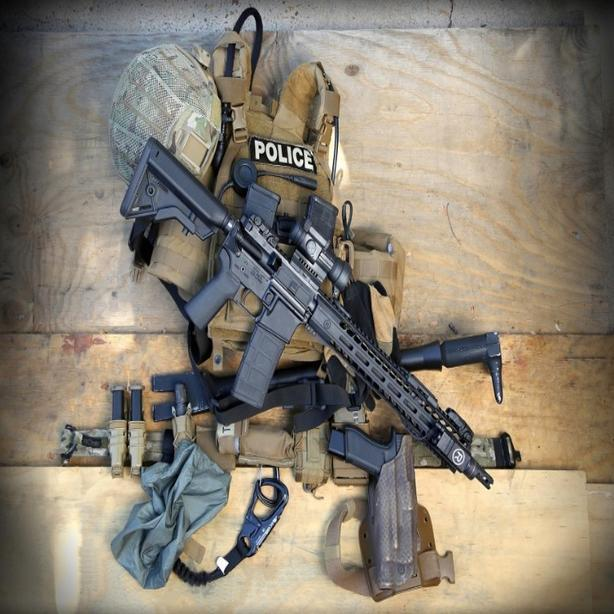Firearm: (119, 132, 507, 491), (322, 418, 440, 591)
